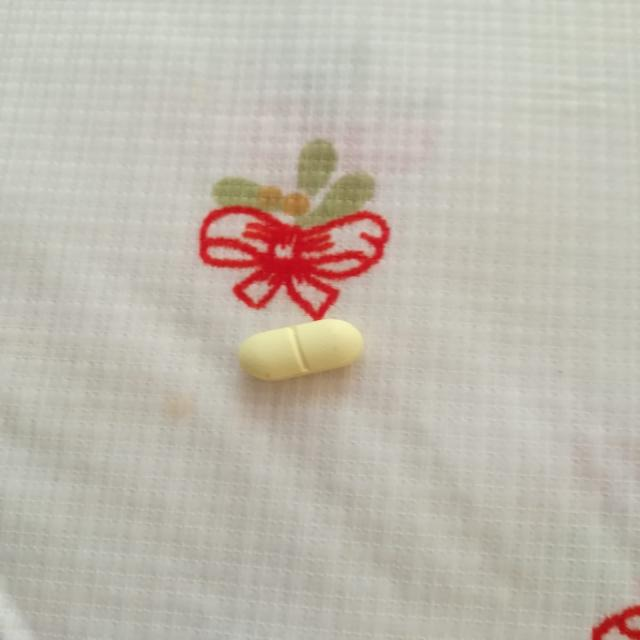pills: (230, 318, 379, 388)
